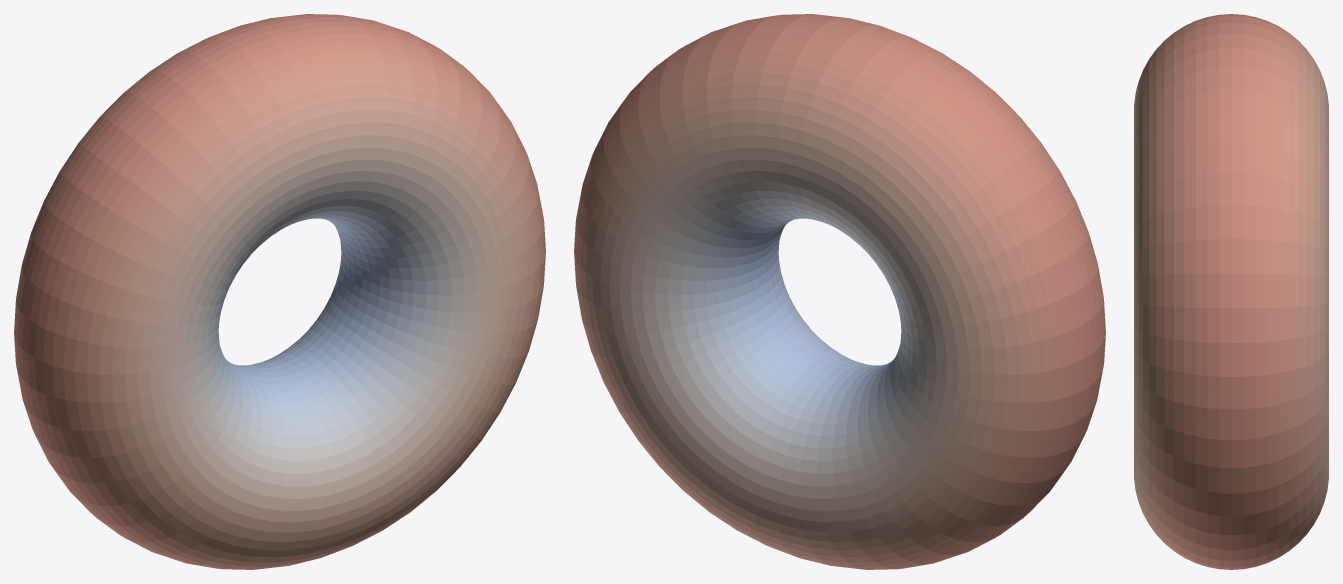
The picture shows the model from 3 angles, left to right: view 1: azimuth 30°, elevation 25°; view 2: azimuth 150°, elevation 25°; view 3: azimuth 270°, elevation 25°; orthographic projection. The views are drawn at different scales.
Parts seen in each view (by area): view 1: world; view 2: world; view 3: world.
Part boxes in pixels (box(x1,y1,x2,y2)): world: box(14, 14, 545, 569); world: box(574, 14, 1105, 569); world: box(1134, 14, 1328, 569).
Size of the model in its own units: 24.67 by 24.62 by 8.65.
